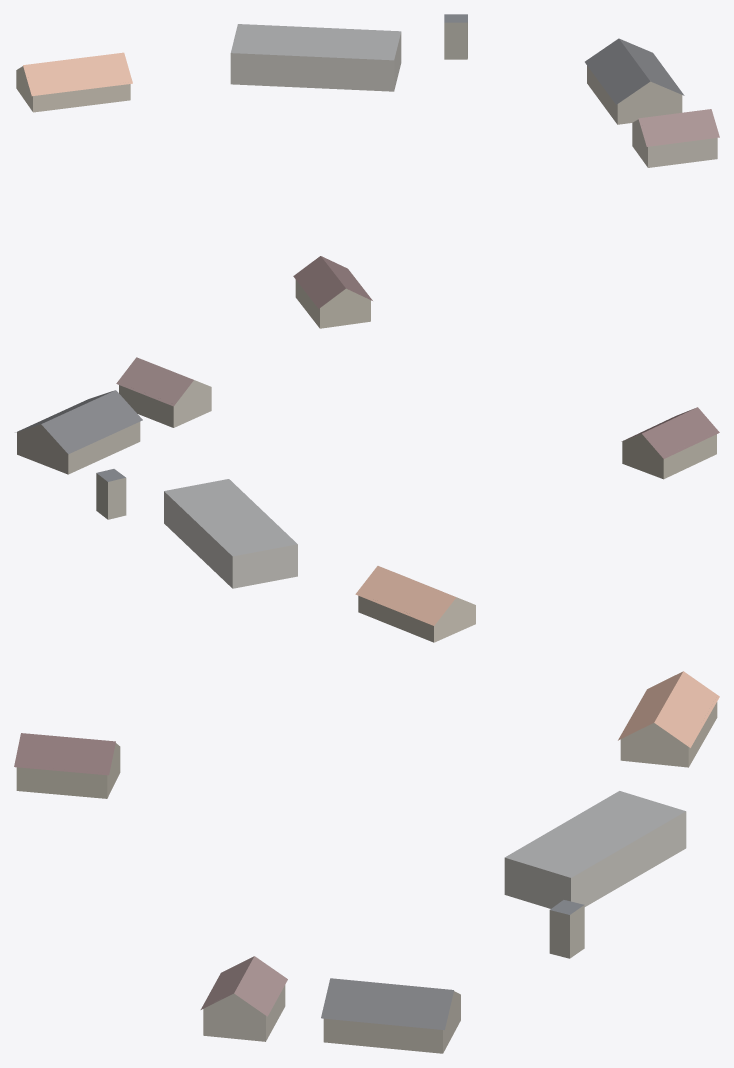
3 renders of one model, top to bottom at view 1: azimuth 30°, elevation 25°; view 2: azimuth 150°, elevation 25°; view 3: azimuth 270°, elevation 25°, orthographic. The views are drawn at different scales.
Parts seen in each view (by area): view 1: tuile; view 2: tuile; view 3: tuile.
Boxes of the visible parts, x1,y1,x2,y2 form: tuile: (16, 14, 719, 328); tuile: (15, 357, 719, 642); tuile: (14, 671, 719, 1053).
Bounding box in the file's own units: 109 × 13.22 × 105.
